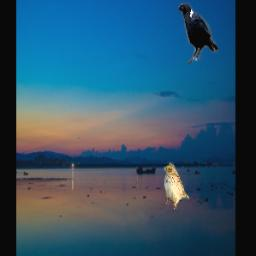Crow: (179, 4, 219, 65)
Sparrow: (164, 161, 190, 209)
